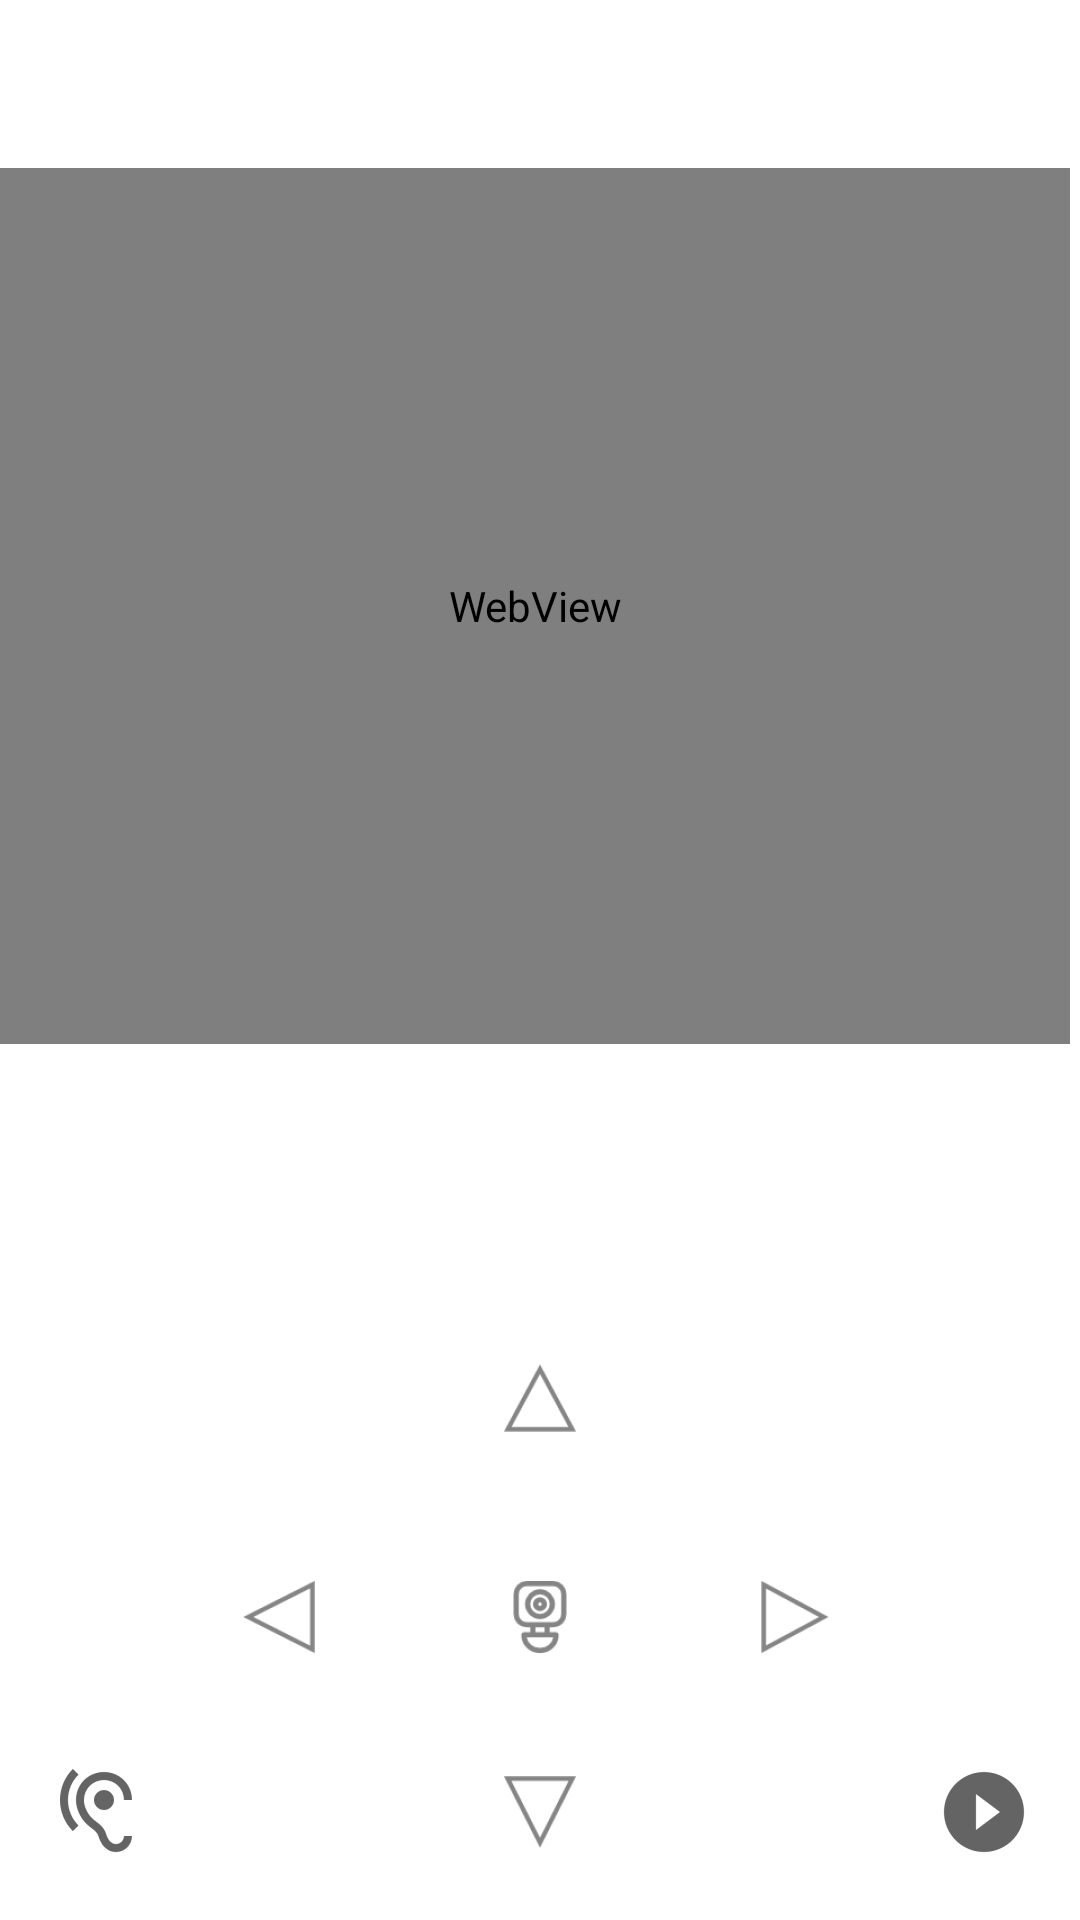

Icons on this 1080 x 1920 Android screen, each with the point to tap as point (x, y):
down: point (540, 1811)
left: point (279, 1617)
play: point (984, 1812)
right: point (794, 1617)
